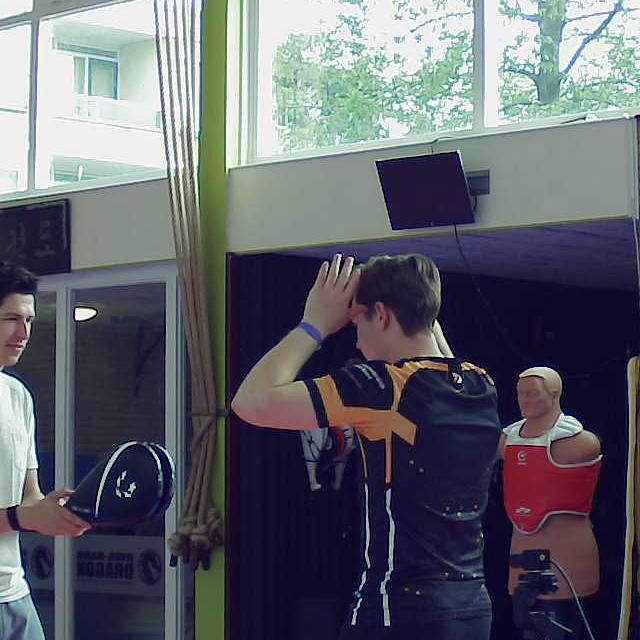paddle: (69, 440, 173, 523)
